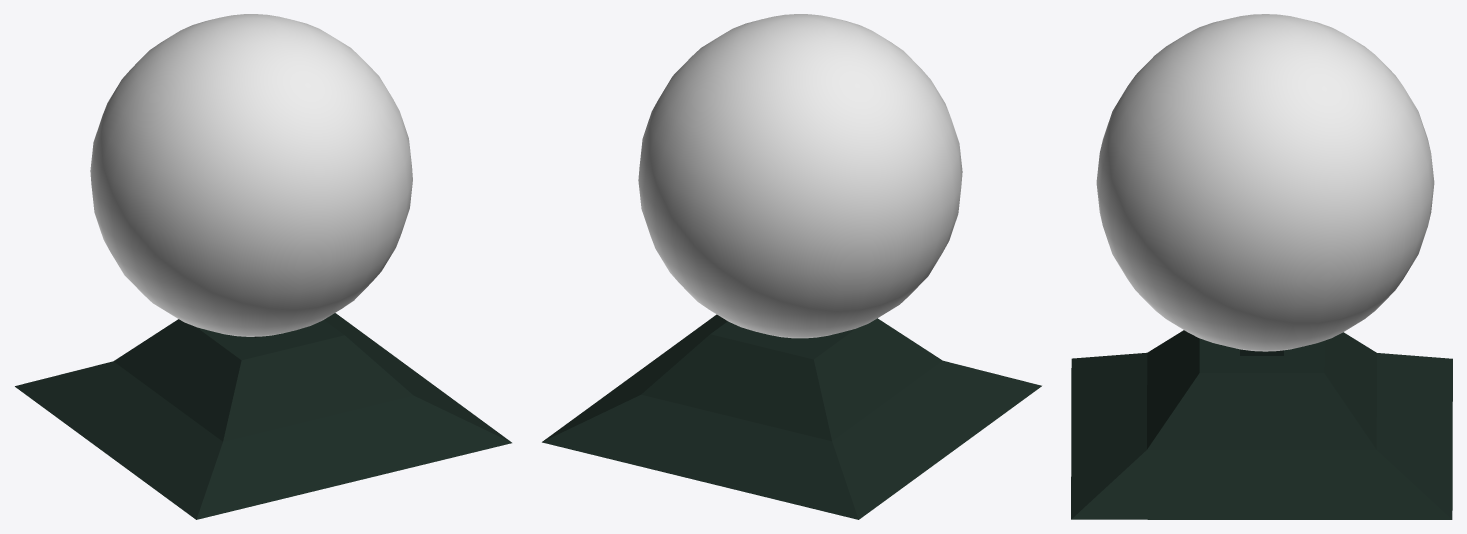
The model's file is BolaSciFi.fbx.
3 renders of one model, left to right at view 1: azimuth 30°, elevation 25°; view 2: azimuth 150°, elevation 25°; view 3: azimuth 270°, elevation 25°, orthographic. The views are drawn at different scales.
Parts seen in each view (by area): view 1: GlassSphere, Cube.018; view 2: GlassSphere, Cube.018; view 3: GlassSphere, Cube.018.
Boxes of the visible parts, x1,y1,x2,y2 form: GlassSphere: [90, 14, 412, 336]; Cube.018: [15, 313, 511, 519]; GlassSphere: [638, 14, 962, 338]; Cube.018: [542, 314, 1041, 519]; GlassSphere: [1096, 14, 1434, 351]; Cube.018: [1071, 330, 1452, 519].
Bounding box in the file's own units: 29.54 × 34.52 × 29.54.
